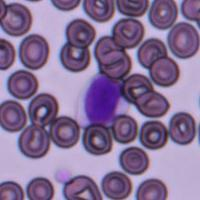L: (74, 73, 125, 128)
